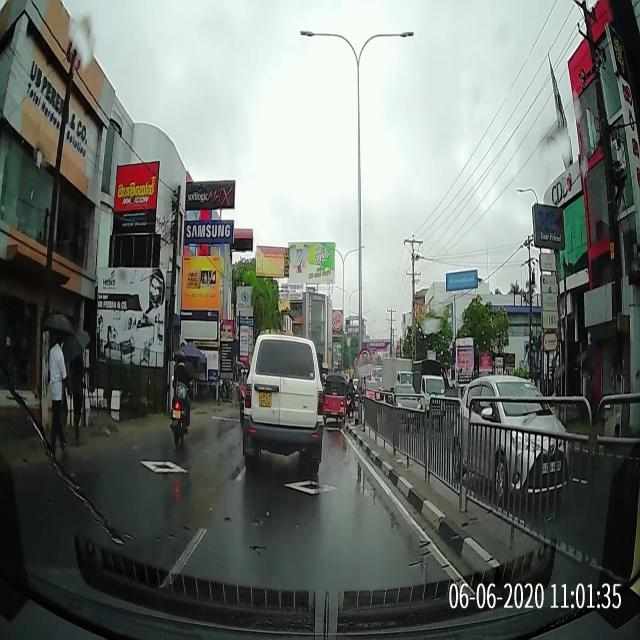diamond: (217, 469, 405, 507)
